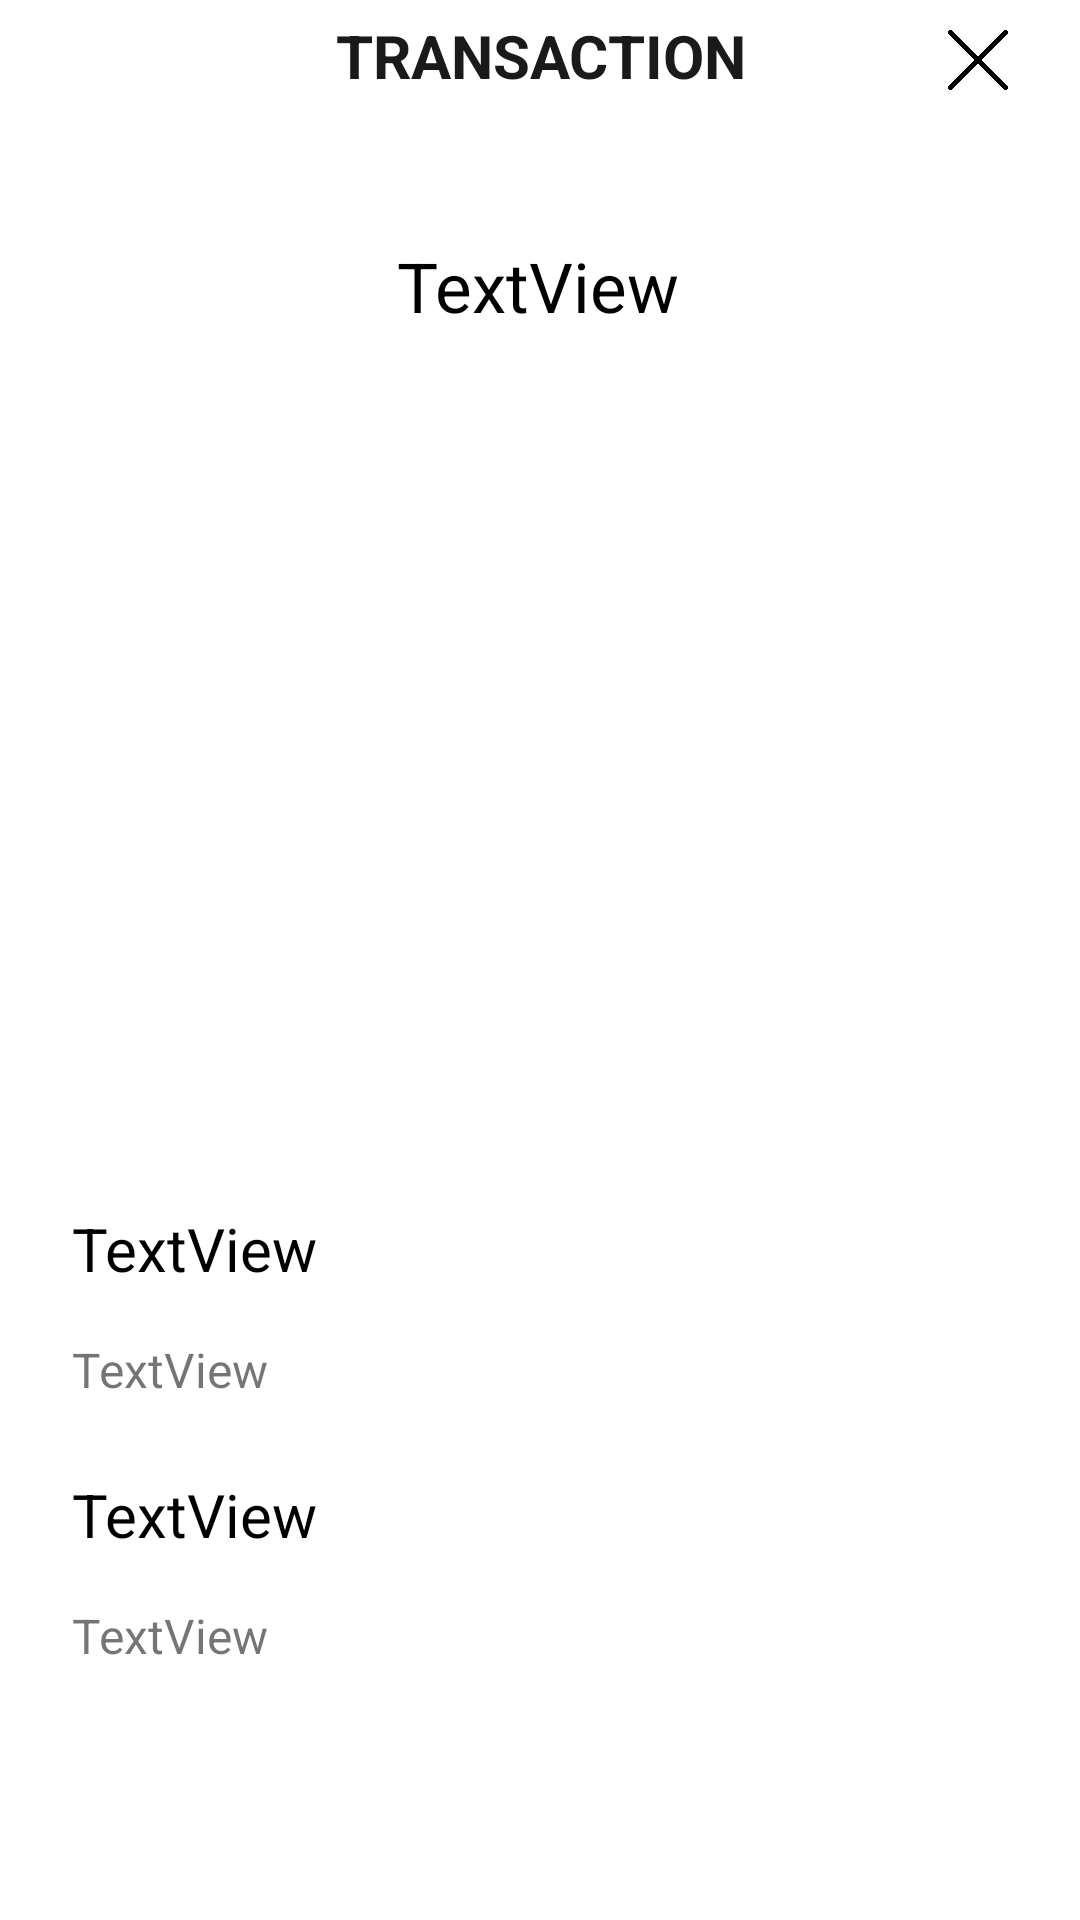

Icon bounding boxes for this 1080px x 1920px phone screenshot, format (x1, y1, x2, y2):
close: (948, 30, 1008, 90)
